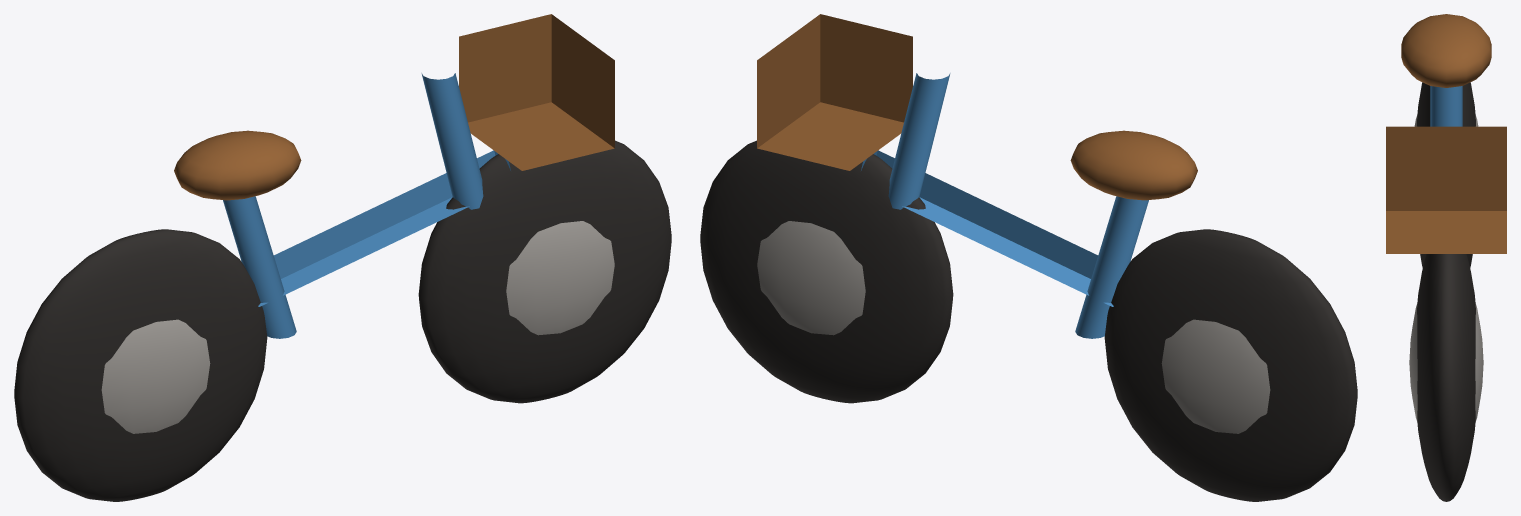
The model's file is bike.glb.
3 renders of one model, left to right at view 1: azimuth 30°, elevation 25°; view 2: azimuth 150°, elevation 25°; view 3: azimuth 270°, elevation 25°, orthographic. The views are drawn at different scales.
Parts seen in each view (by area): view 1: ClayAsset; view 2: ClayAsset; view 3: ClayAsset.
Part boxes in pixels (box(x1,y1,x2,y2)): ClayAsset: box(14, 14, 671, 501); ClayAsset: box(700, 14, 1357, 501); ClayAsset: box(1386, 14, 1506, 501).
Size of the model in its own units: 1.56 by 0.8 by 0.26.
